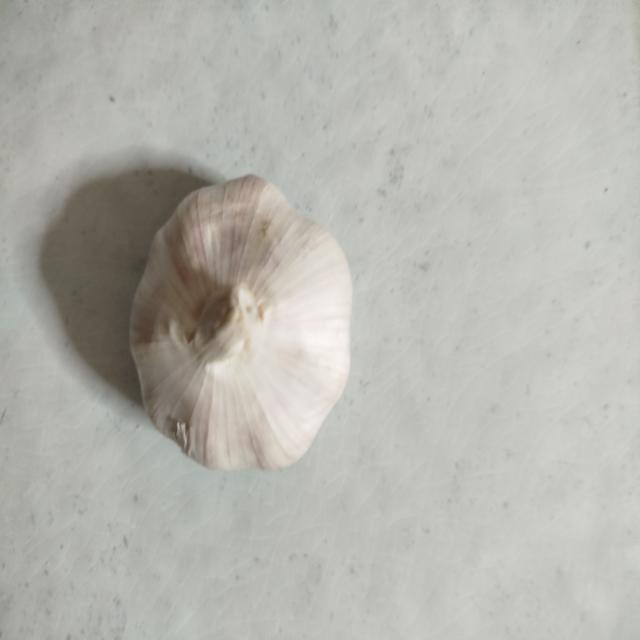garlic: (128, 173, 353, 472)
